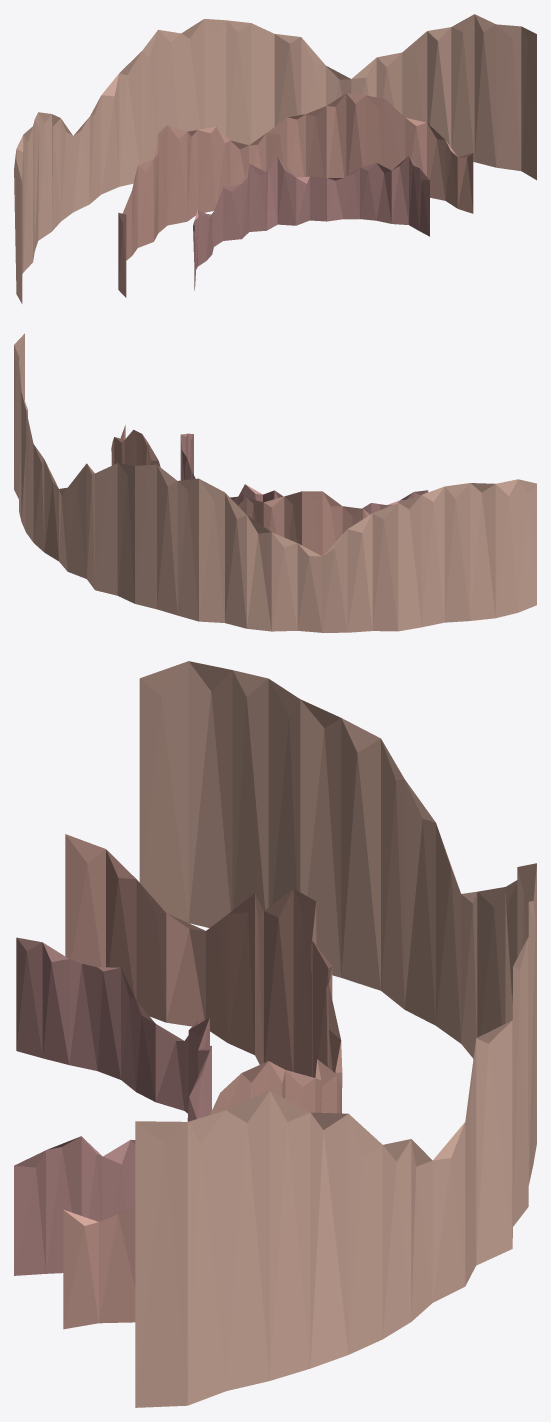
The model's file is mountain_backdrop.glb.
3 views of the same model, one above another, from view 1: azimuth 30°, elevation 25°; view 2: azimuth 150°, elevation 25°; view 3: azimuth 270°, elevation 25° (orthographic). The views are drawn at different scales.
Visible parts, largest first — view 1: FarRange, MidRange, NearRange; view 2: FarRange, MidRange, NearRange; view 3: FarRange, MidRange, NearRange.
Part boxes in pixels (x1,y1,x2,y2): FarRange: (14,14,536,303); MidRange: (118,93,473,297); NearRange: (193,156,429,290); FarRange: (14,333,536,632); MidRange: (111,425,370,556); NearRange: (180,433,428,514); FarRange: (135,661,536,1407); MidRange: (63,834,342,1329); NearRange: (14,937,211,1275).
Size of the model in its own units: 177 by 48.88 by 79.82.
